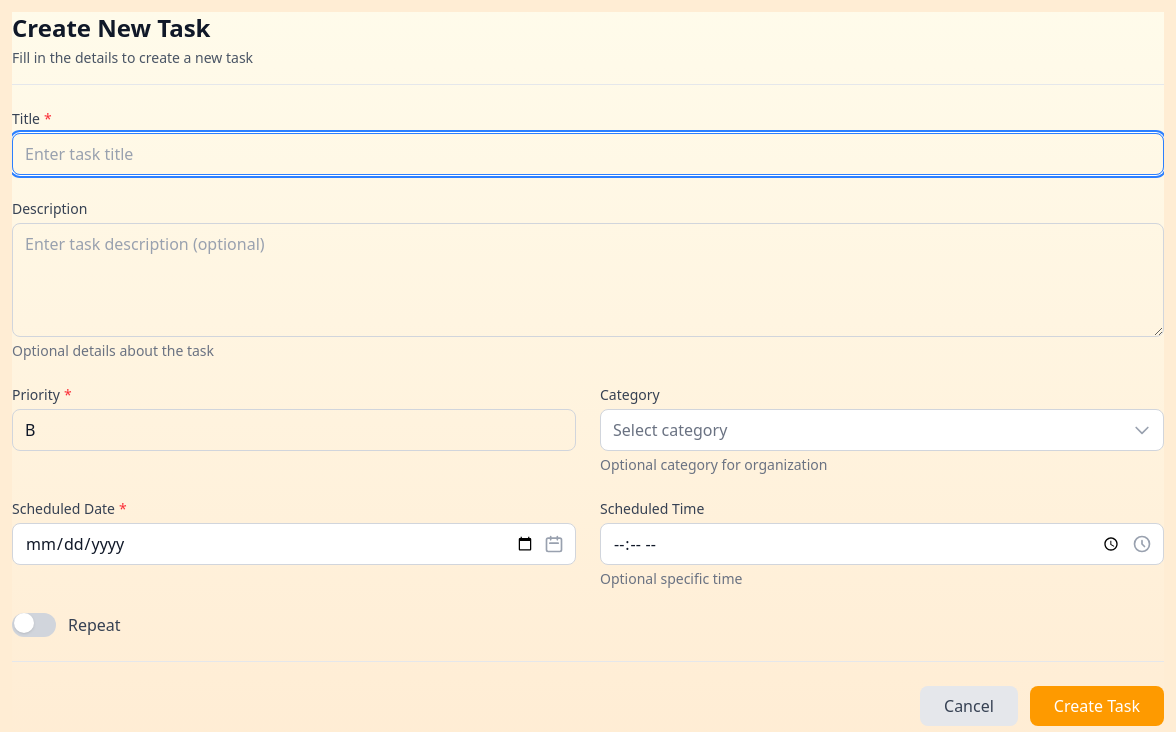
Scenario: TaskForm - Field Interactions › should display category color dots in dropdown
# Open the category dropdown
Click the button with test id "category-select-trigger".
click(670, 430)  # box [600,409,1164,451]
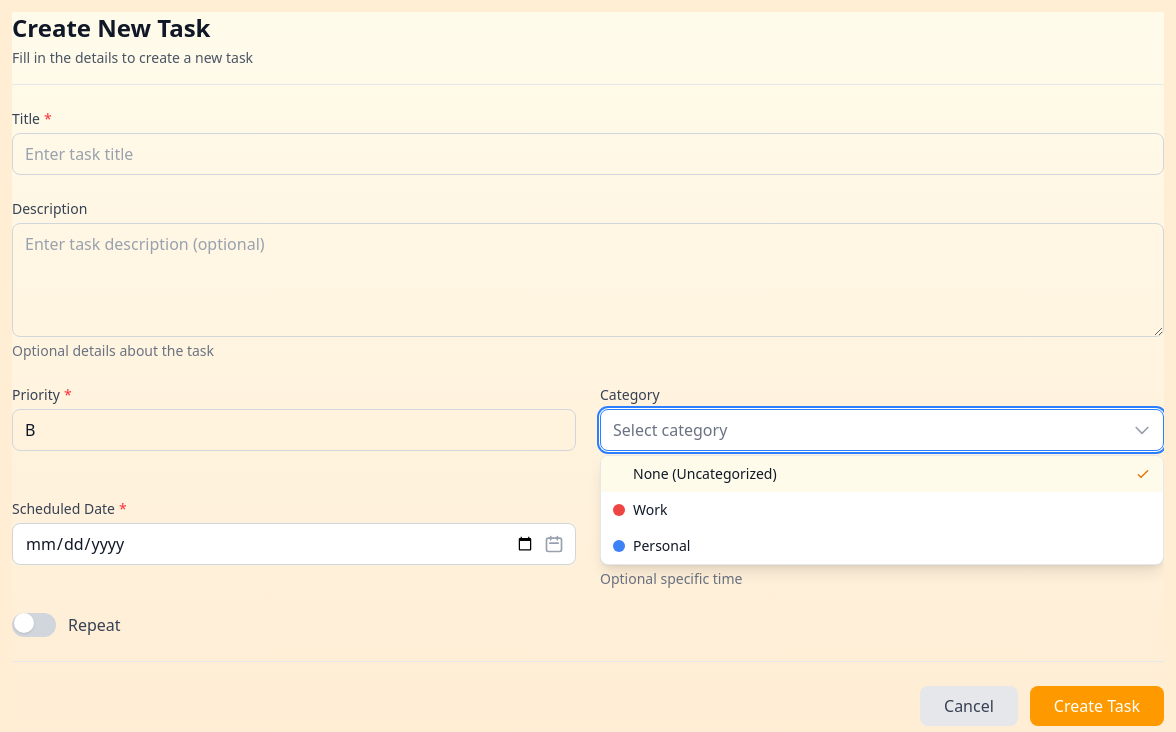
Expected: the text "Work" is shown, [633,500,668,519]
Expected: the text "Personal" is shown, [633,536,690,555]
